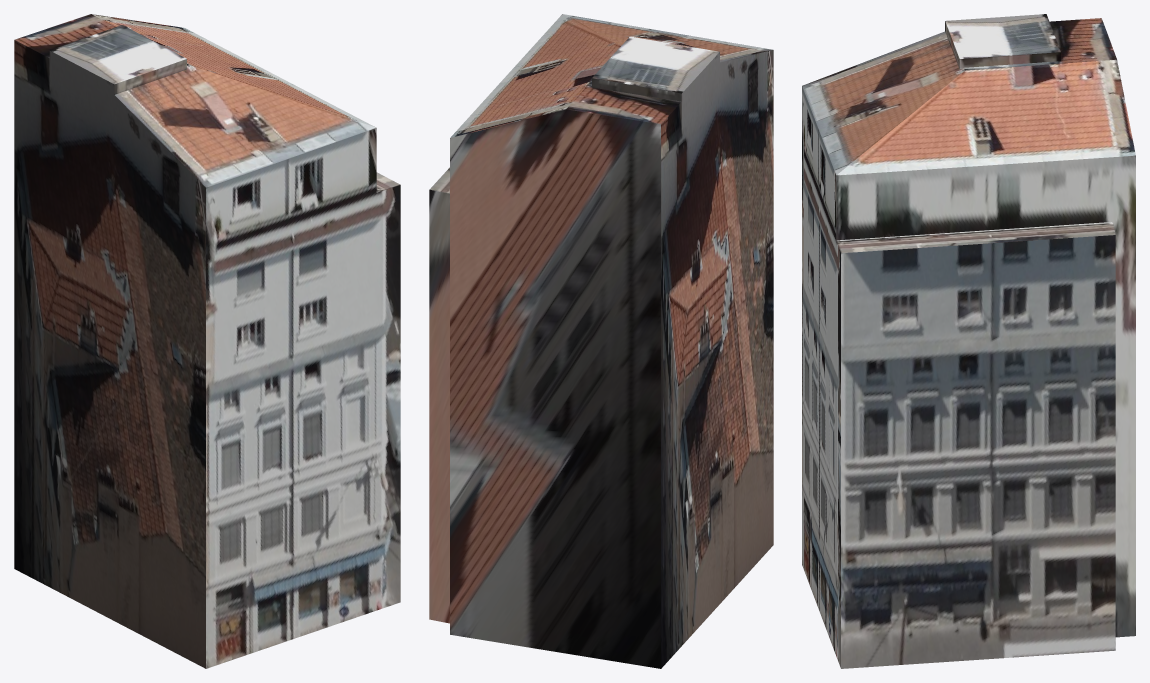
The picture shows the model from 3 angles, left to right: view 1: azimuth 30°, elevation 25°; view 2: azimuth 150°, elevation 25°; view 3: azimuth 270°, elevation 25°; orthographic projection. The views are drawn at different scales.
Parts seen in each view (by area): view 1: Z_UP; view 2: Z_UP; view 3: Z_UP.
Part boxes in pixels (x1,y1,x2,y2): Z_UP: (14, 14, 400, 668); Z_UP: (429, 14, 773, 668); Z_UP: (802, 14, 1135, 668).
Size of the model in its own units: 14.91 by 29.96 by 16.94.
Materials: 2 (1 with a texture image).
